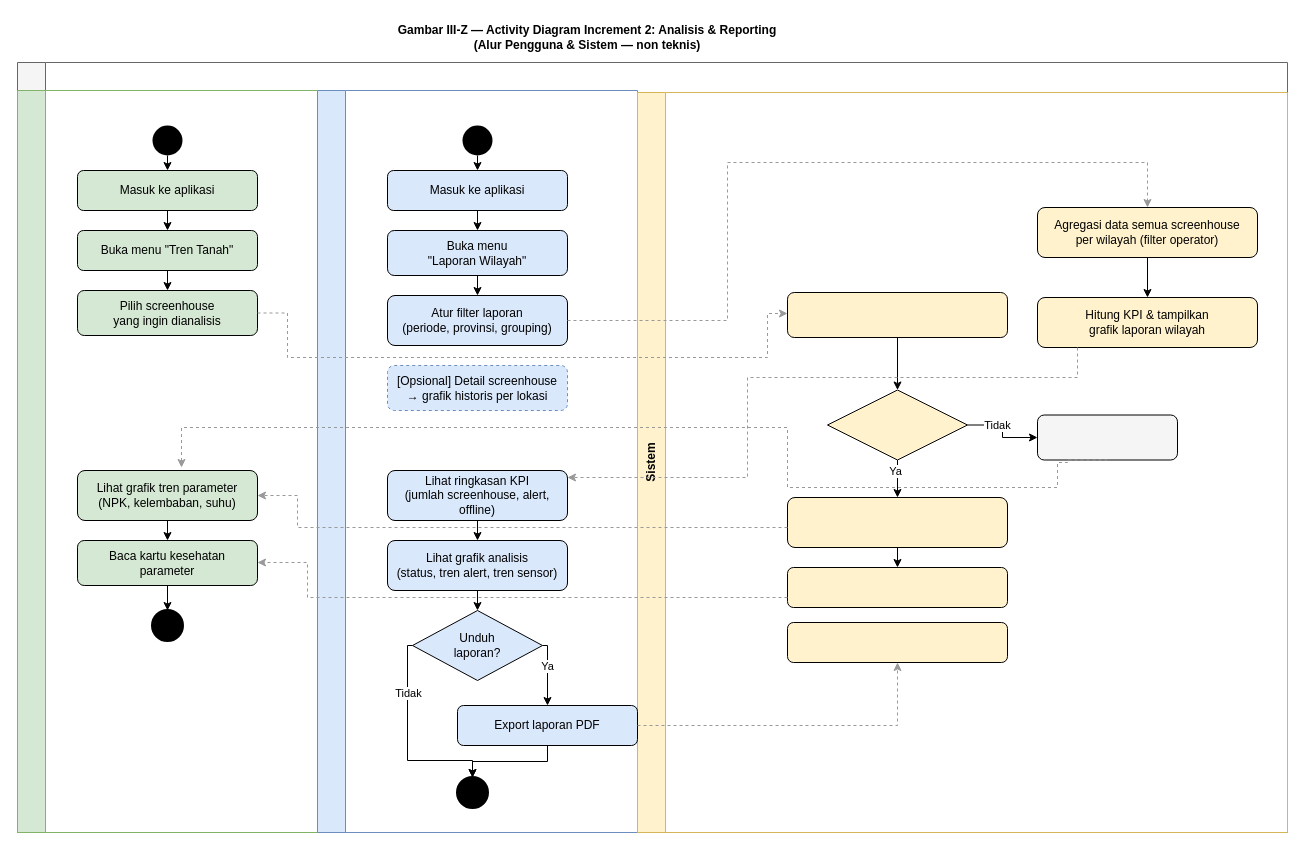
Some shapes in this 1305 by 850 pixel diagram are drawn without their labels. Here are the shapes that lost their labels. From the top down, the box of each, then its label:
(786, 292, 1008, 338): Ambil riwayat sensor petani (24 jam per screenhouse)
(826, 389, 968, 460): Data histori tersedia?
(1036, 414, 1178, 460): Tampilkan pesan data belum tersedia
(16, 90, 318, 832): Petani
(316, 90, 638, 832): Operator
(786, 496, 1008, 548): Olah data → grafik tren petani + zona aman/bahaya
(786, 566, 1008, 608): Evaluasi kesehatan per parameter
(786, 622, 1008, 662): Generate file PDF laporan
